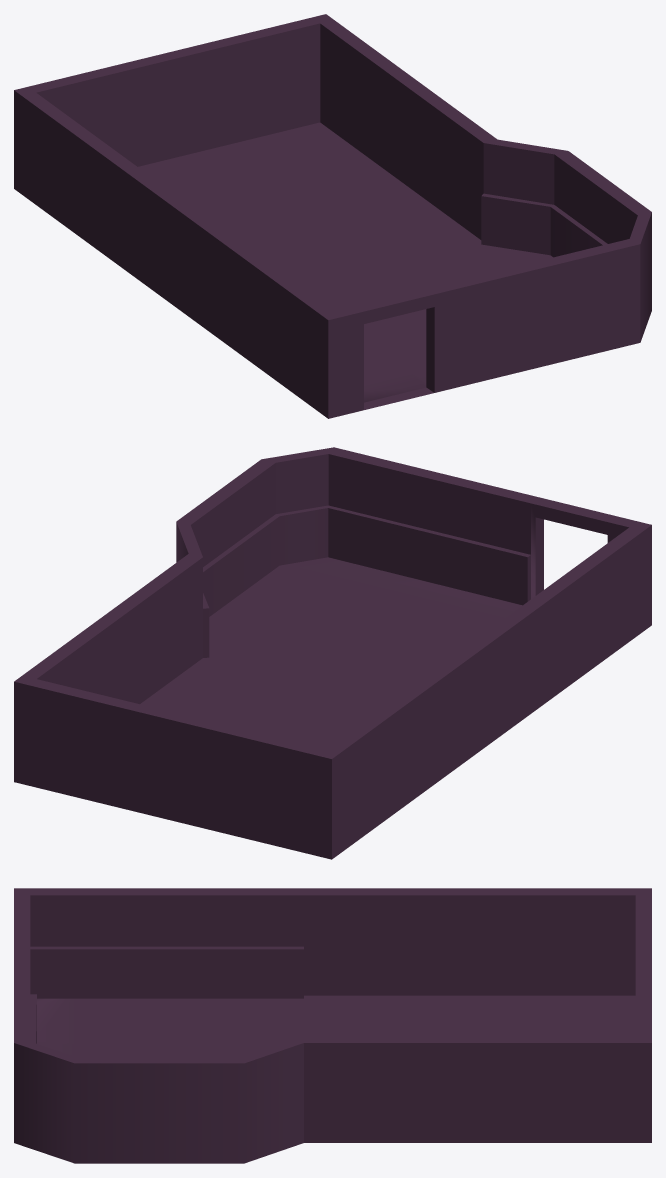
File: Environment_Cafe.fbx
3 renders of one model, top to bottom at view 1: azimuth 30°, elevation 25°; view 2: azimuth 150°, elevation 25°; view 3: azimuth 270°, elevation 25°, orthographic.
Parts seen in each view (by area): view 1: Environment; view 2: Environment; view 3: Environment.
Part boxes in pixels (x1,y1,x2,y2): Environment: [14, 14, 651, 418]; Environment: [14, 447, 651, 859]; Environment: [14, 888, 651, 1163].
Bounding box in the file's own units: 796 × 213 × 1225.
